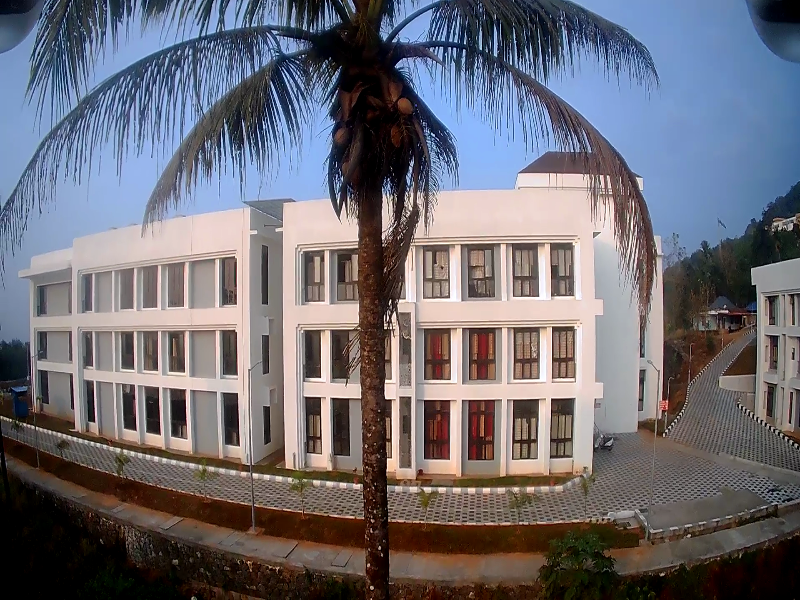coconut: (332, 126, 355, 145), (397, 96, 411, 121), (388, 125, 402, 144)
